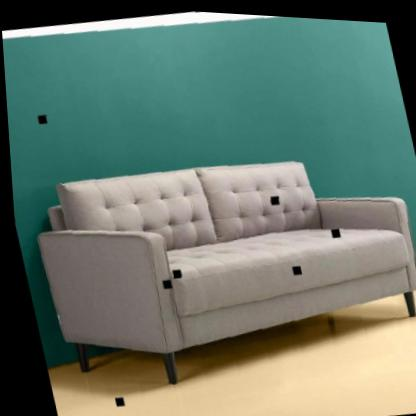Sofa: (23, 125, 416, 370)
